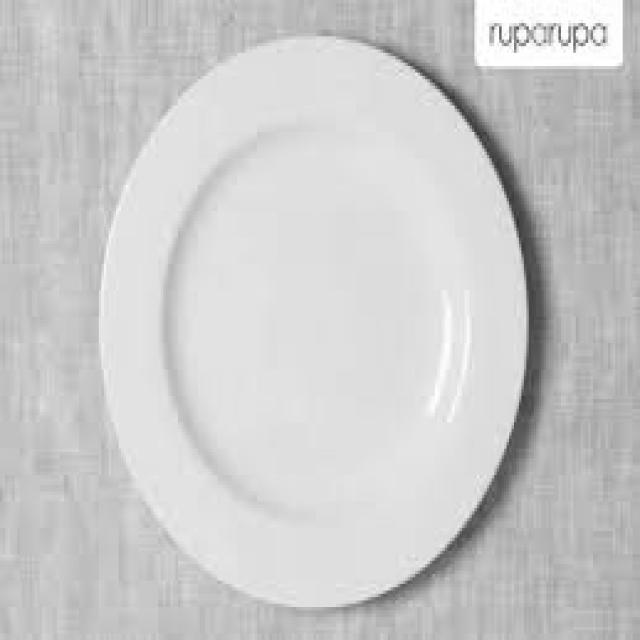dish: (63, 14, 583, 626)
